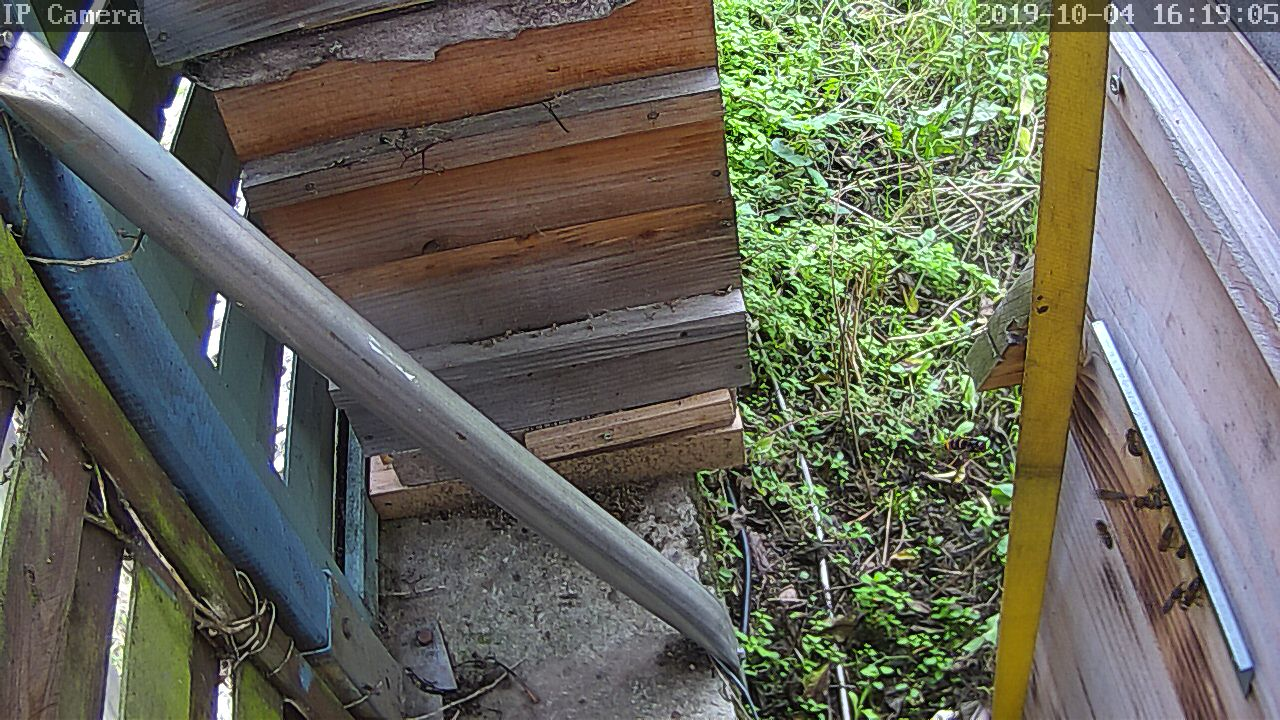bee: (1161, 582, 1209, 620), (1131, 485, 1176, 516), (1158, 527, 1193, 560), (1089, 513, 1117, 554), (1118, 424, 1148, 462), (1087, 482, 1128, 508)
hornet: (939, 435, 990, 462)
